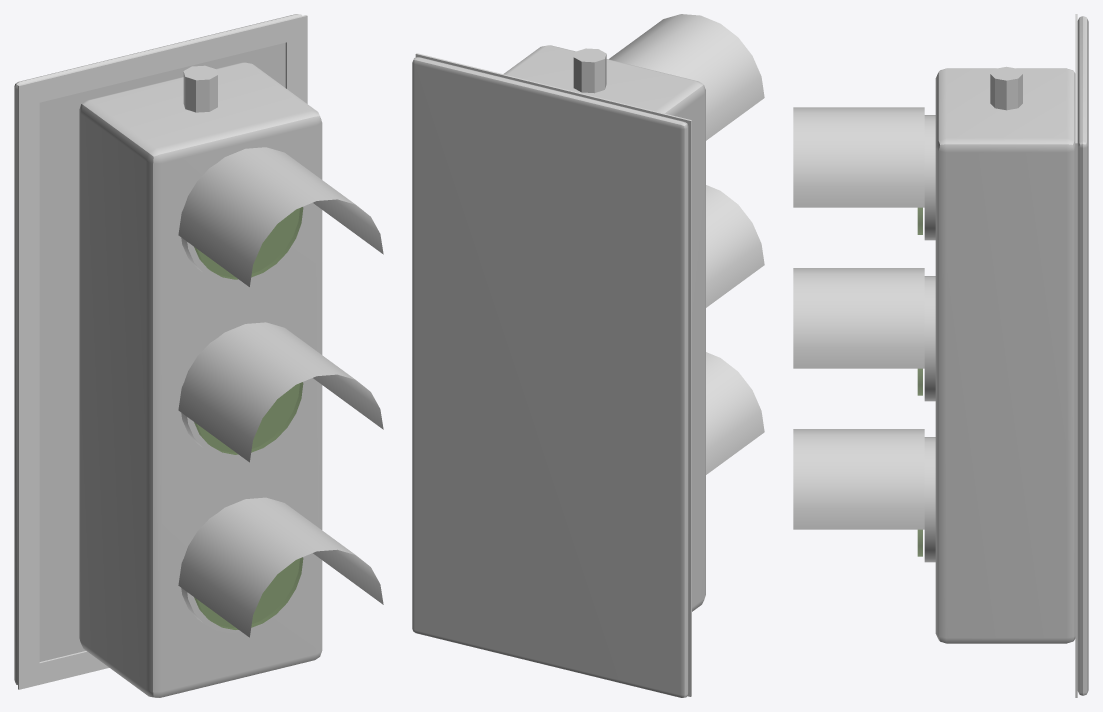
File: SM_TrafficLight_Head.fbx
The picture shows the model from 3 angles, left to right: view 1: azimuth 30°, elevation 25°; view 2: azimuth 150°, elevation 25°; view 3: azimuth 270°, elevation 25°; orthographic projection. The views are drawn at different scales.
Parts seen in each view (by area): view 1: SM_TrafficLight_Head_1; view 2: SM_TrafficLight_Head_1; view 3: SM_TrafficLight_Head_1.
Boxes of the visible parts, x1,y1,x2,y2 form: SM_TrafficLight_Head_1: (14, 14, 383, 697); SM_TrafficLight_Head_1: (412, 14, 764, 697); SM_TrafficLight_Head_1: (793, 14, 1088, 697).
Size of the model in its own units: 56 by 113 by 54.
